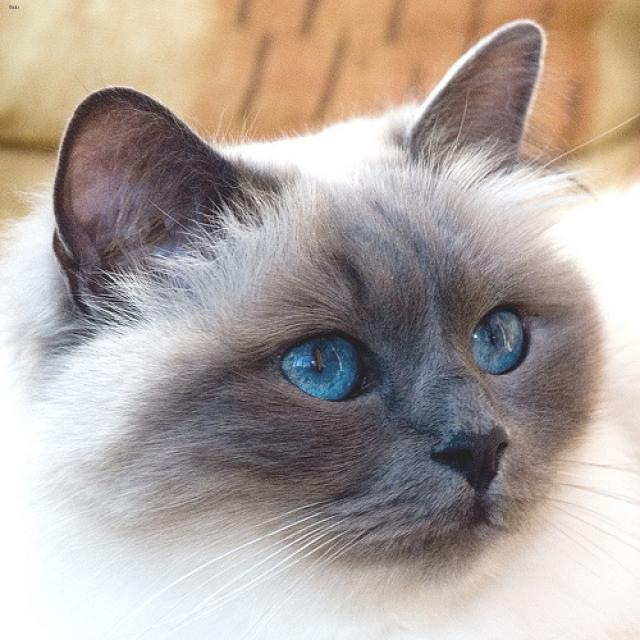Birman: (53, 18, 604, 587)
